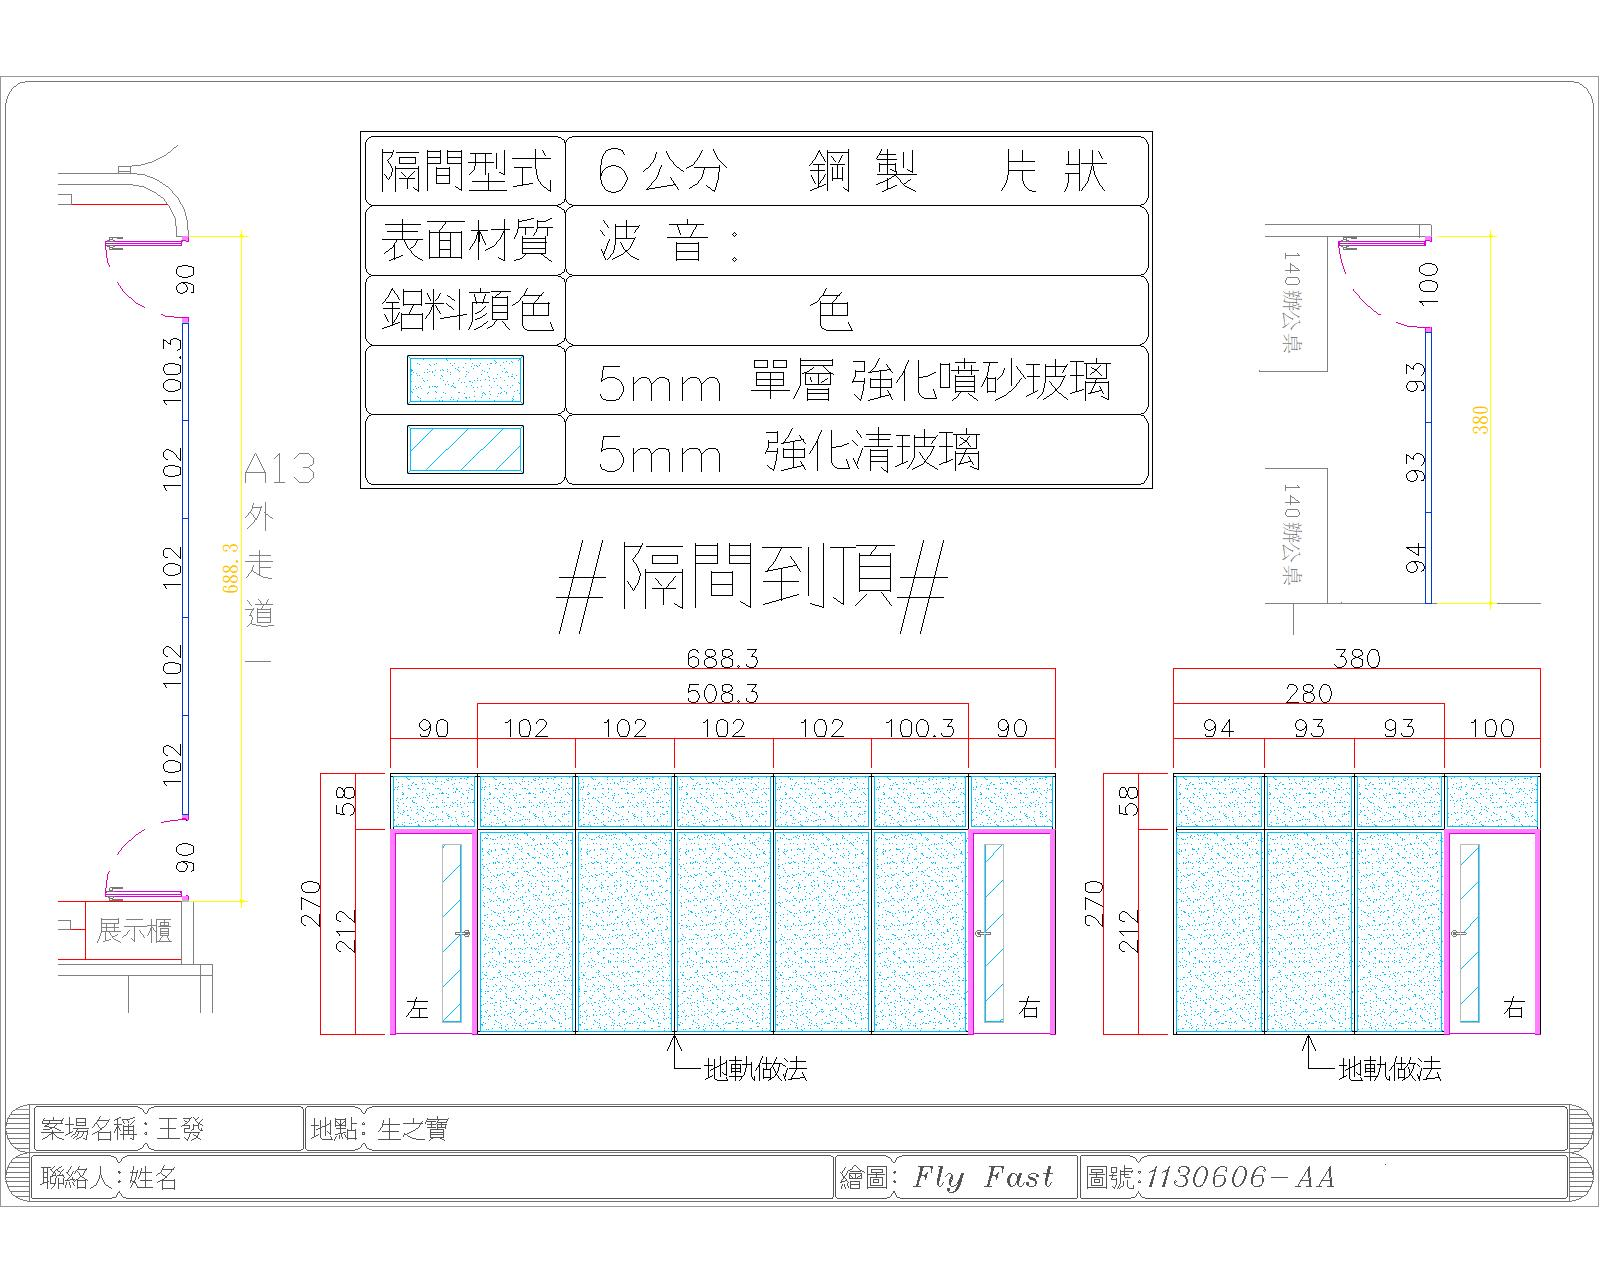GSP: (576, 828, 674, 1034), (773, 831, 872, 1033)
